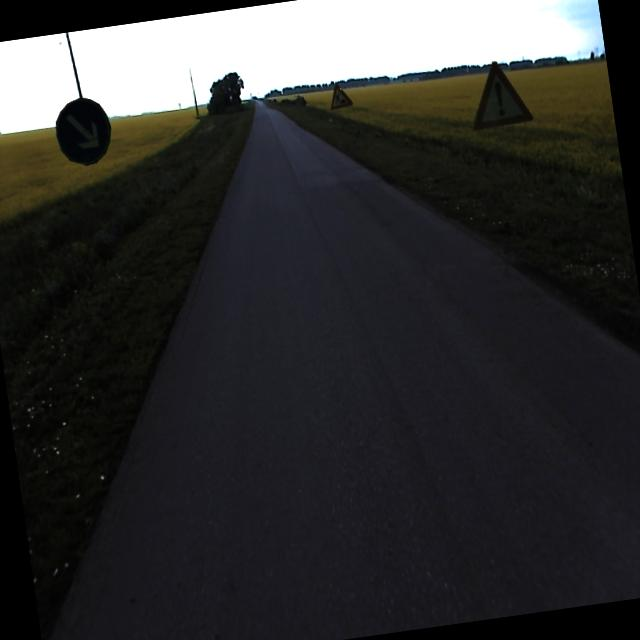road: (48, 99, 640, 640)
